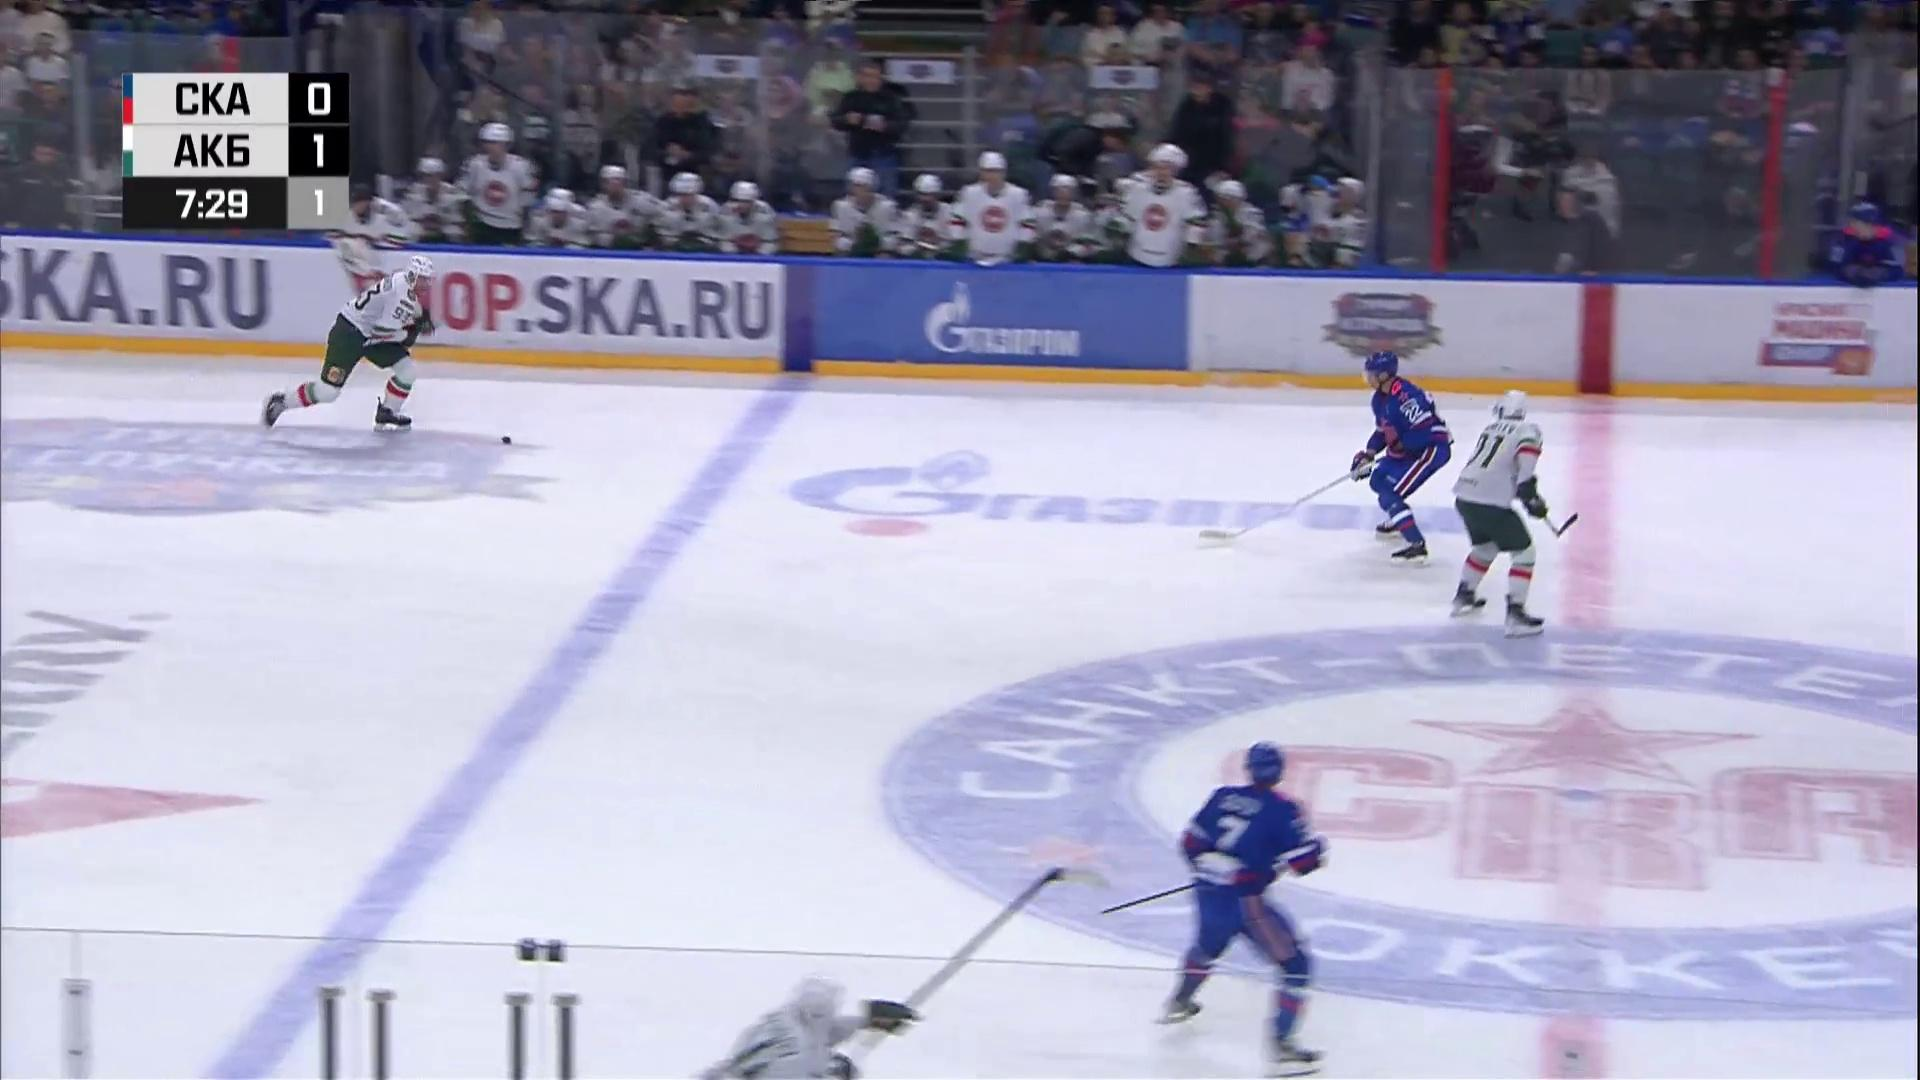ball: (501, 435, 512, 444)
